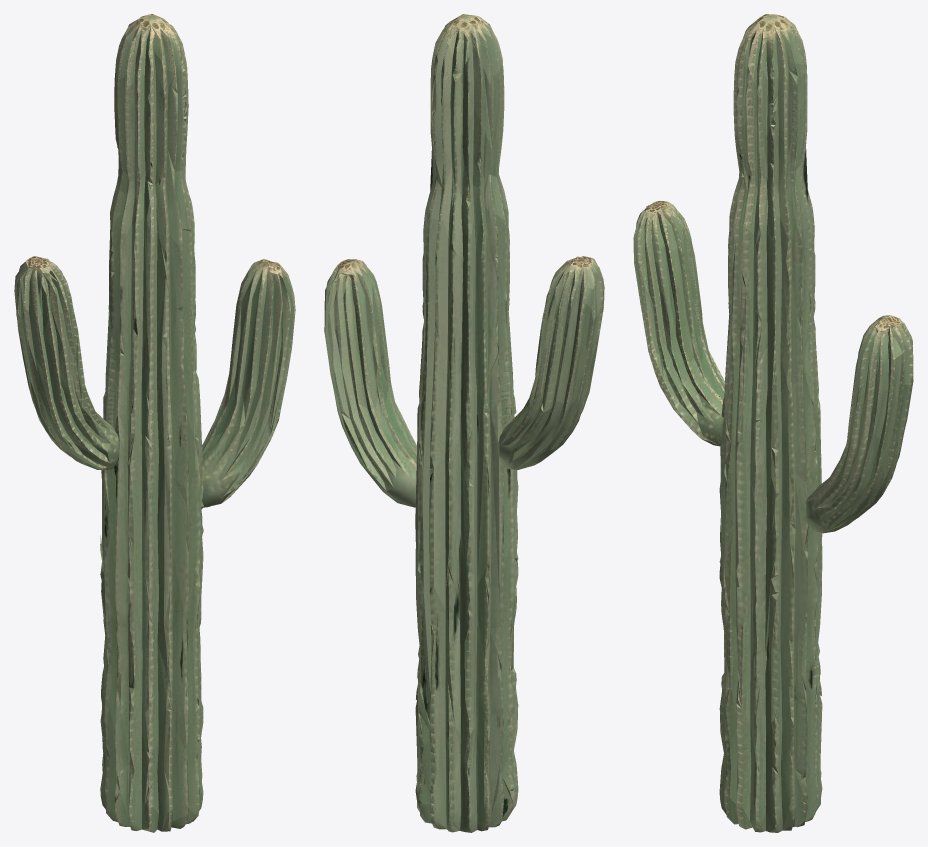
File: cactus.glb
3 views of the same model, side by side, from view 1: azimuth 30°, elevation 25°; view 2: azimuth 150°, elevation 25°; view 3: azimuth 330°, elevation 25° (orthographic).
Bounding box in the file's own units: 0.6732 × 1.9 × 0.227.
Materials: 1 (1 with a texture image).
